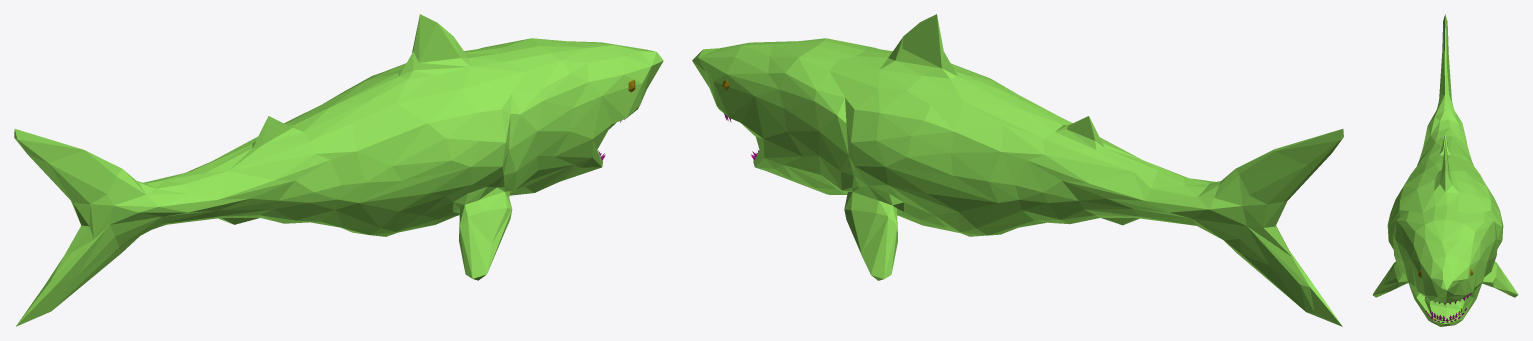
File: Shark 3.obj
The picture shows the model from 3 angles, left to right: view 1: azimuth 30°, elevation 25°; view 2: azimuth 150°, elevation 25°; view 3: azimuth 270°, elevation 25°; orthographic projection. The views are drawn at different scales.
Parts seen in each view (by area): view 1: Body; view 2: Body; view 3: Body, Teeth.
Boxes of the visible parts, x1,y1,x2,y2 form: Body: (14,14,663,326); Body: (692,14,1343,326); Body: (1372,14,1518,326); Teeth: (1422,293,1471,322).
Size of the model in its own units: 707 by 241 by 203.
